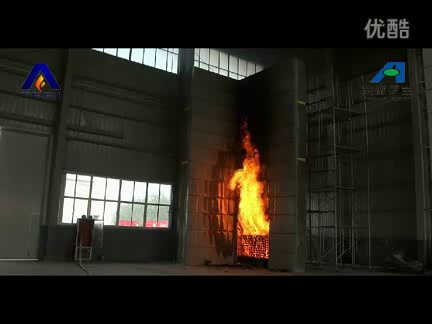fire: (229, 129, 269, 237)
